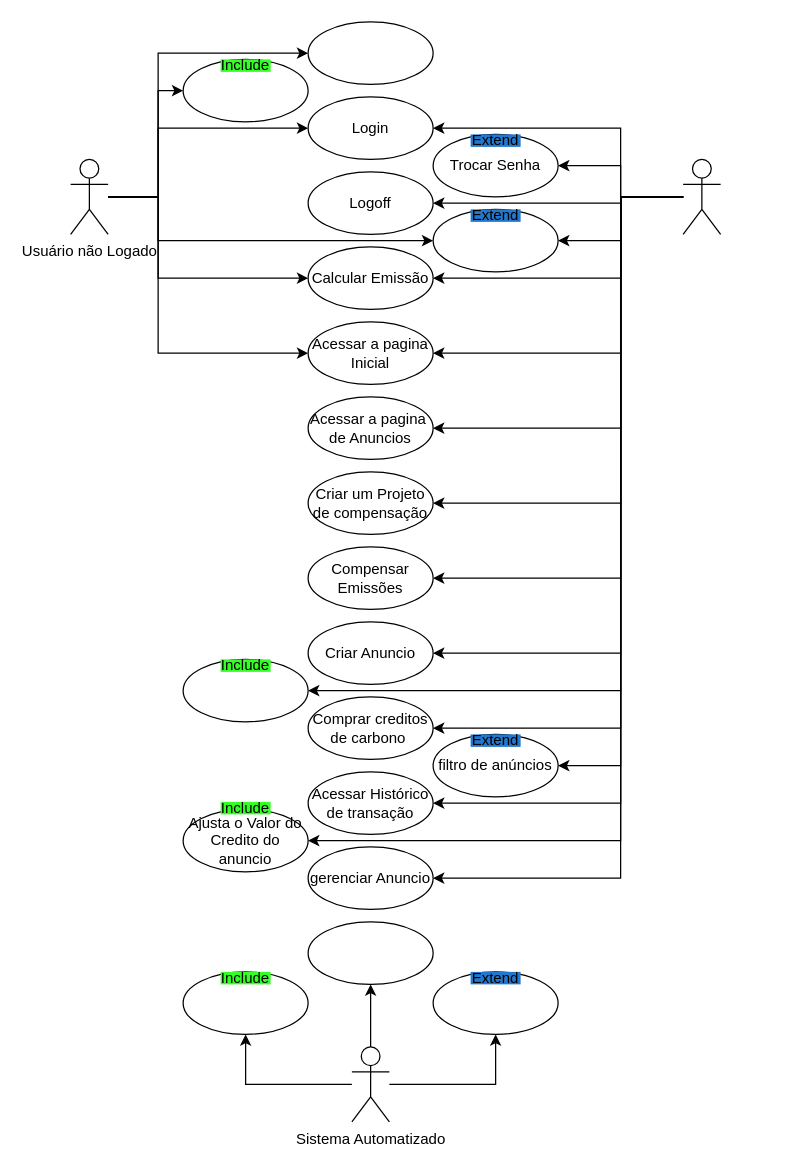
The diagram is 799 pixels wide and 1170 high, and some of its shapes have lost their labels. Here are the shapes that lost their labels. From the top down, the box of each, then its label:
(307, 21, 433, 84): Cadastrar
(182, 58, 308, 122): CNPJ ou CPF
(682, 158, 721, 234): Vendedor / Comprador
(432, 208, 558, 272): Exibir barra de navegação
(182, 658, 308, 722): Exibe anúncios Cadastrados
(307, 921, 433, 984): Validar projetos
(182, 971, 308, 1034): Aplica critérios de validação
(432, 971, 558, 1034): Notifica Validação
